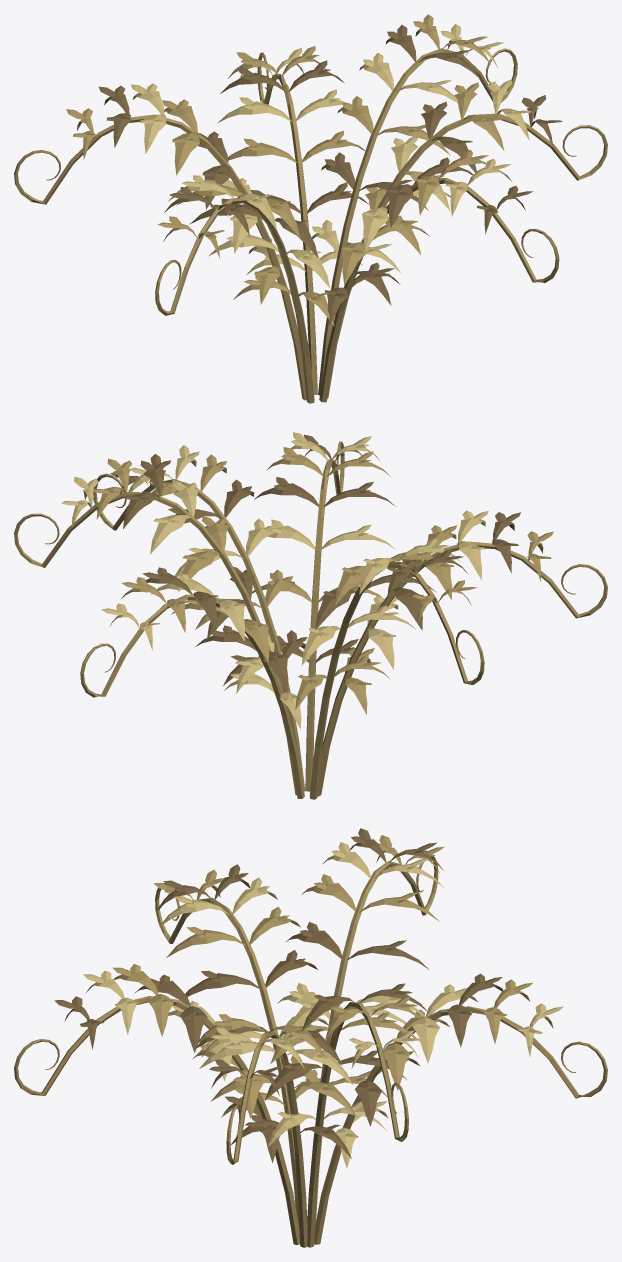
The model's file is DESERT_FERN.hi.glb.
3 renders of one model, top to bottom at view 1: azimuth 30°, elevation 25°; view 2: azimuth 150°, elevation 25°; view 3: azimuth 270°, elevation 25°, orthographic. The views are drawn at different scales.
Parts seen in each view (by area): view 1: DESERT_FERN; view 2: DESERT_FERN; view 3: DESERT_FERN.
Part boxes in pixels (bbox=[...]): DESERT_FERN: bbox=[14, 14, 607, 403]; DESERT_FERN: bbox=[14, 432, 607, 799]; DESERT_FERN: bbox=[14, 828, 607, 1247].
Bounding box in the file's own units: 0.6066 × 0.358 × 0.6007.
1 material, 1 textured.
